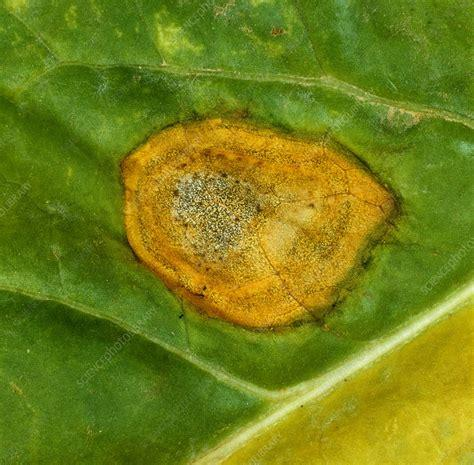black-spot: (93, 82, 415, 350)
